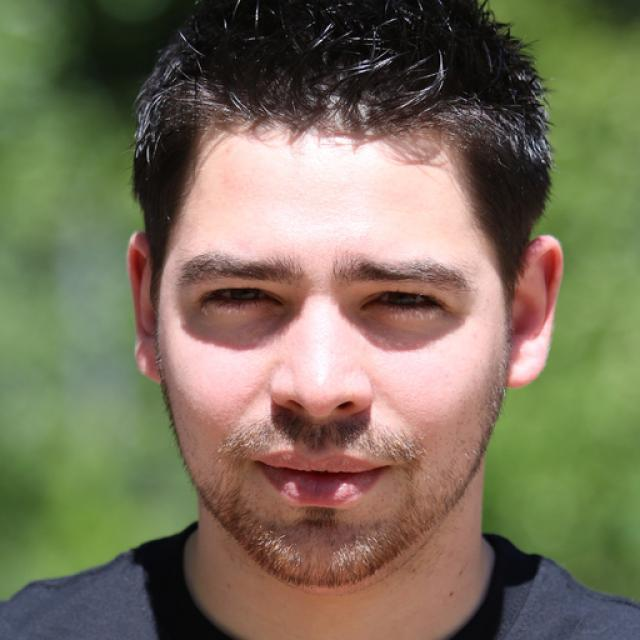content: (156, 101, 509, 590)
